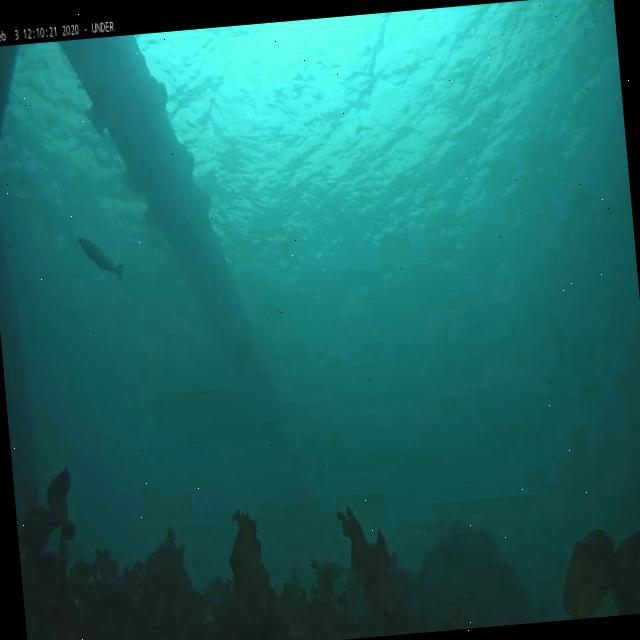fish: (77, 232, 126, 288)
